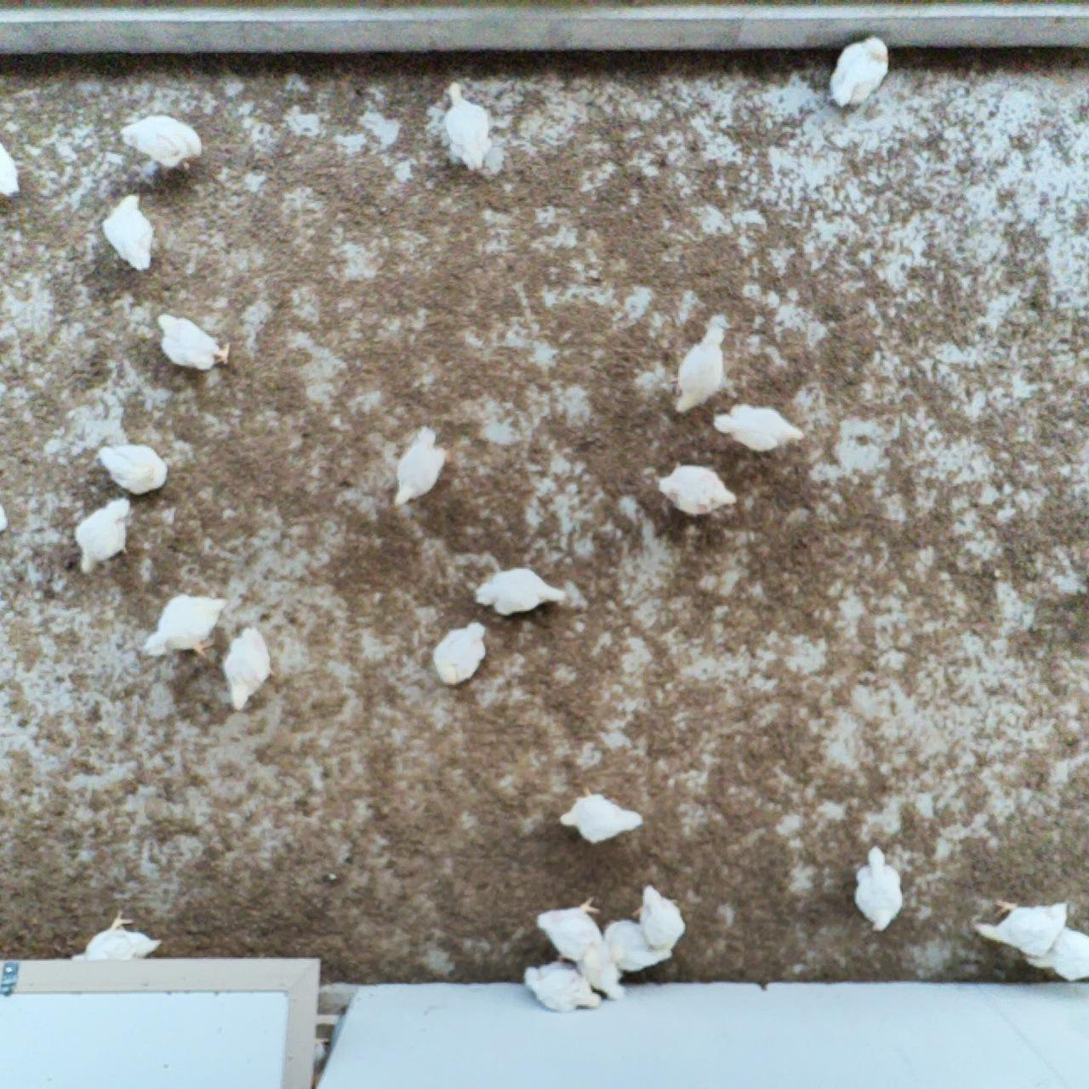chicken: (140, 589, 232, 667), (968, 896, 1071, 959), (672, 323, 734, 418), (711, 398, 811, 455), (822, 32, 894, 111), (535, 892, 611, 965), (557, 786, 646, 848), (653, 458, 742, 520), (118, 111, 205, 174), (474, 561, 570, 618), (522, 954, 603, 1021), (219, 624, 278, 714), (72, 495, 136, 577), (154, 309, 233, 375), (851, 842, 907, 935), (71, 907, 164, 962), (99, 191, 158, 275), (388, 437, 451, 512), (600, 917, 675, 974), (1022, 922, 1089, 984), (441, 97, 495, 173), (629, 881, 688, 950), (432, 618, 490, 688), (96, 442, 168, 495), (575, 944, 629, 1004), (0, 137, 23, 201)
